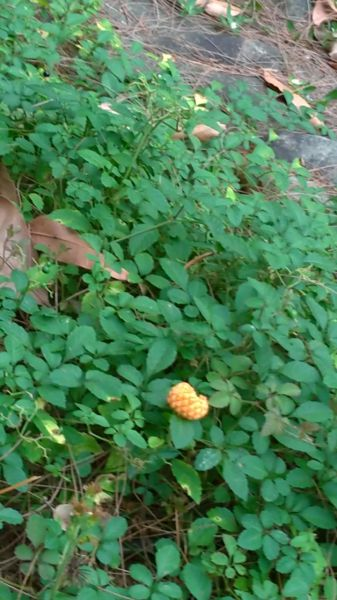eggs: (165, 378, 213, 422)
